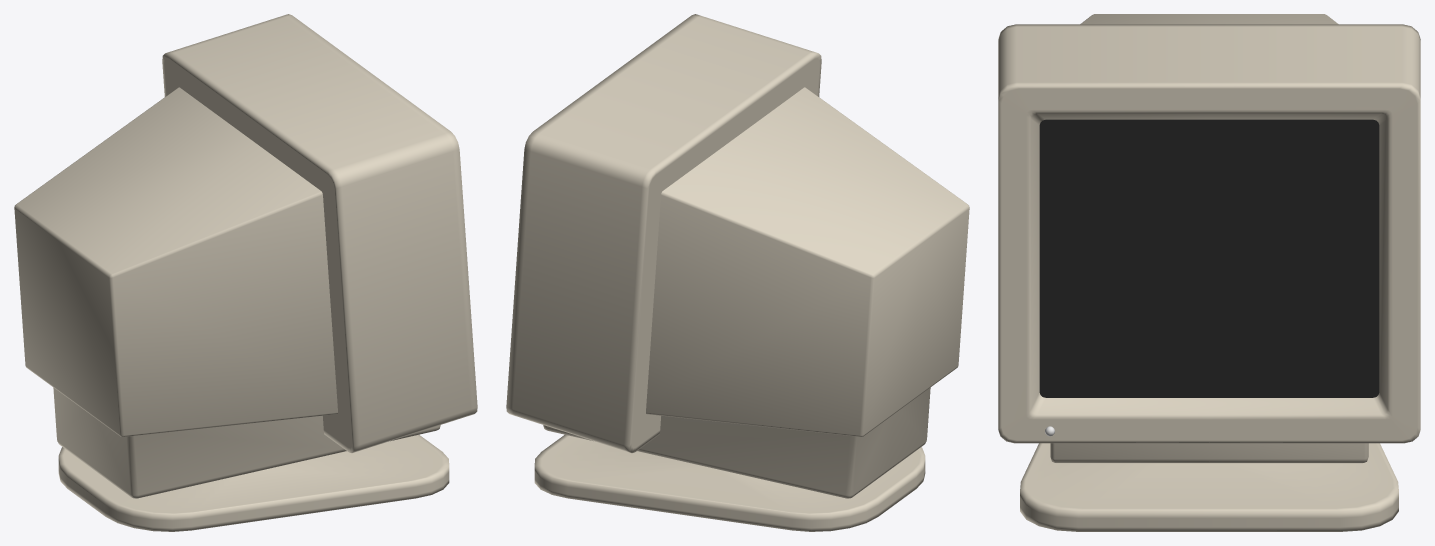
The model's file is computer.glb.
The picture shows the model from 3 angles, left to right: view 1: azimuth 30°, elevation 25°; view 2: azimuth 150°, elevation 25°; view 3: azimuth 270°, elevation 25°; orthographic projection. The views are drawn at different scales.
Parts seen in each view (by area): view 1: computerbody; view 2: computerbody; view 3: computerbody, computerpanel.
Part boxes in pixels (left/top/right/bottom): computerbody: left=14, top=14, right=477, bottom=531; computerbody: left=506, top=14, right=969, bottom=531; computerbody: left=998, top=14, right=1420, bottom=531; computerpanel: left=1039, top=119, right=1379, bottom=397.
Size of the model in its own units: 2.23 by 2.28 by 2.
